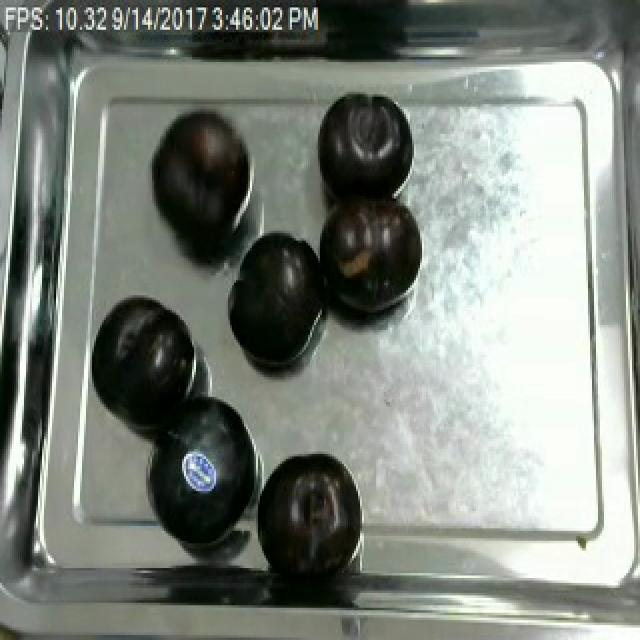Fruit: (142, 385, 266, 548), (82, 293, 202, 434), (220, 226, 330, 377), (144, 104, 254, 248), (252, 444, 364, 580), (316, 188, 422, 322), (314, 89, 416, 206)
